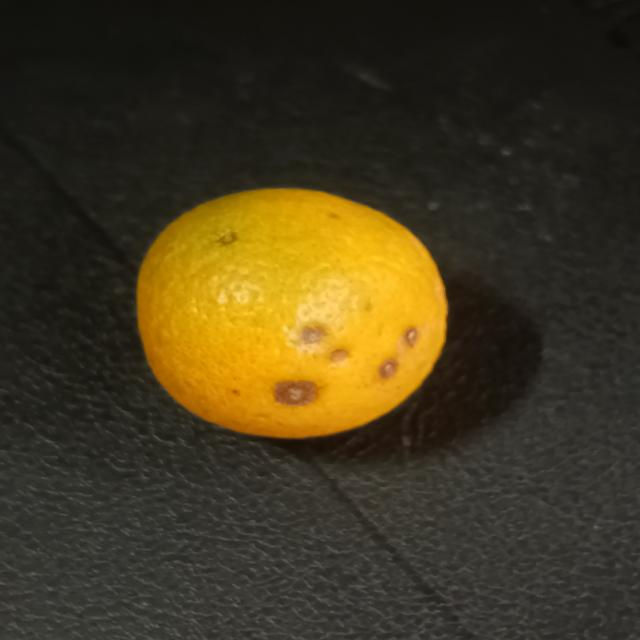black spot: (129, 181, 459, 446)
